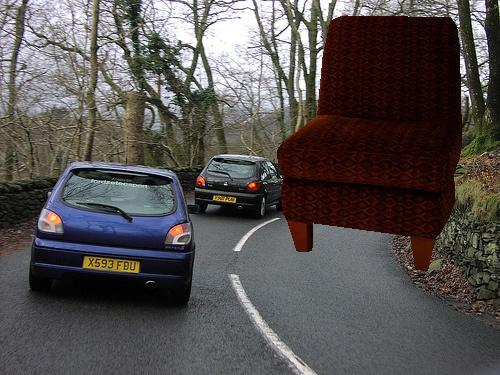tampered: (278, 16, 462, 271)
